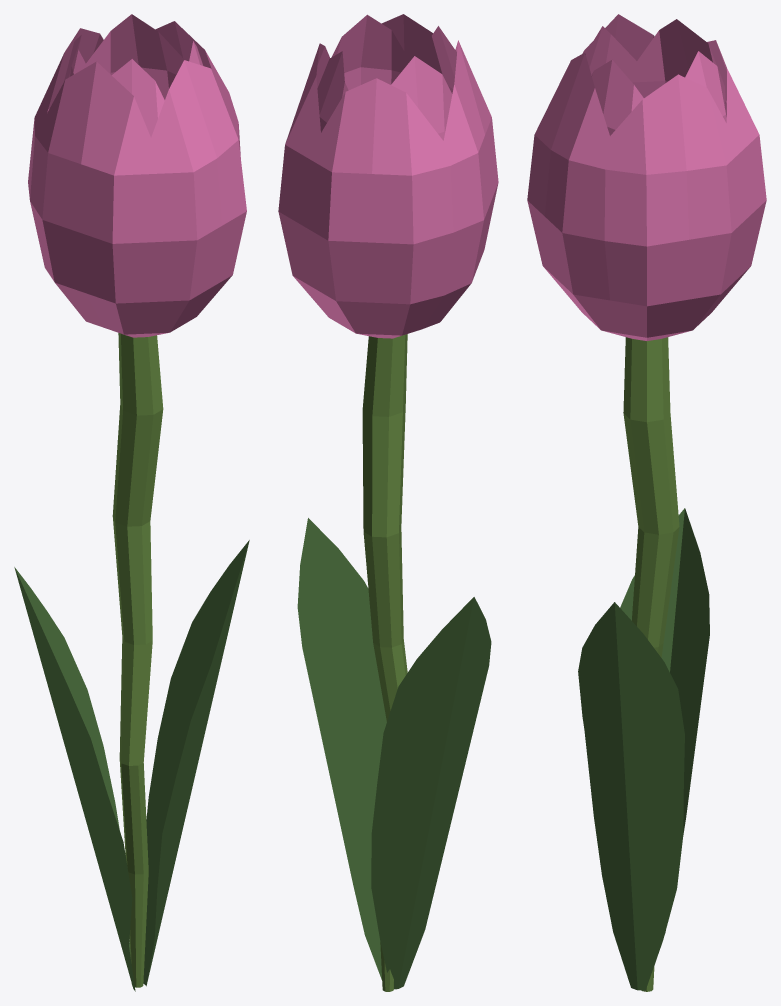
The model's file is Tulp_lila.fbx.
The picture shows the model from 3 angles, left to right: view 1: azimuth 30°, elevation 25°; view 2: azimuth 150°, elevation 25°; view 3: azimuth 270°, elevation 25°; orthographic projection.
Parts seen in each view (by area): view 1: Tulp Roze; view 2: Tulp Roze; view 3: Tulp Roze.
Part boxes in pixels (<box>): Tulp Roze: <box>14,14,249,991</box>; Tulp Roze: <box>278,14,498,991</box>; Tulp Roze: <box>527,14,766,991</box>.
Bounding box in the file's own units: 6.99 × 31.66 × 7.23.
